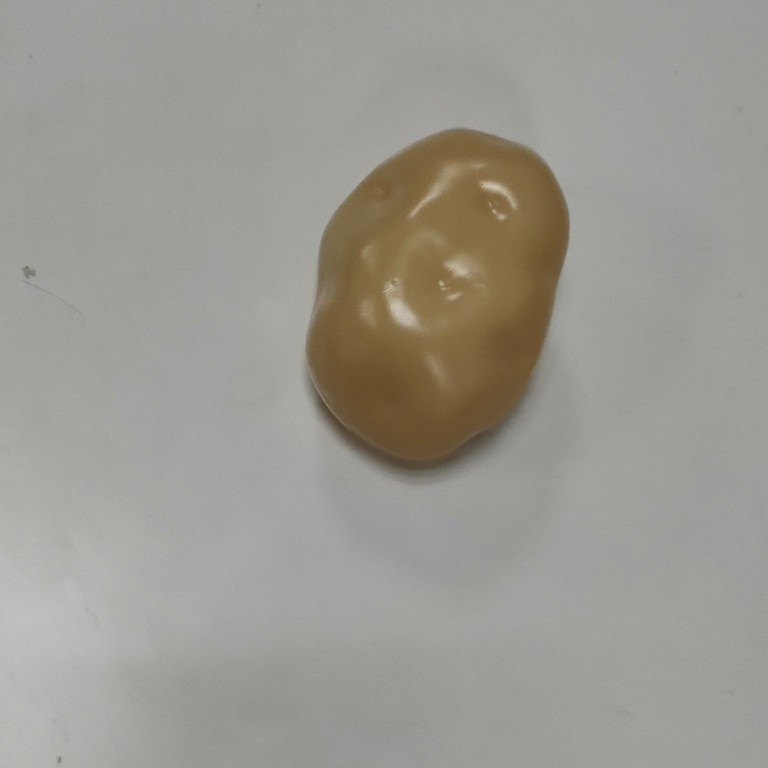fruit_potato: (299, 123, 573, 465)
